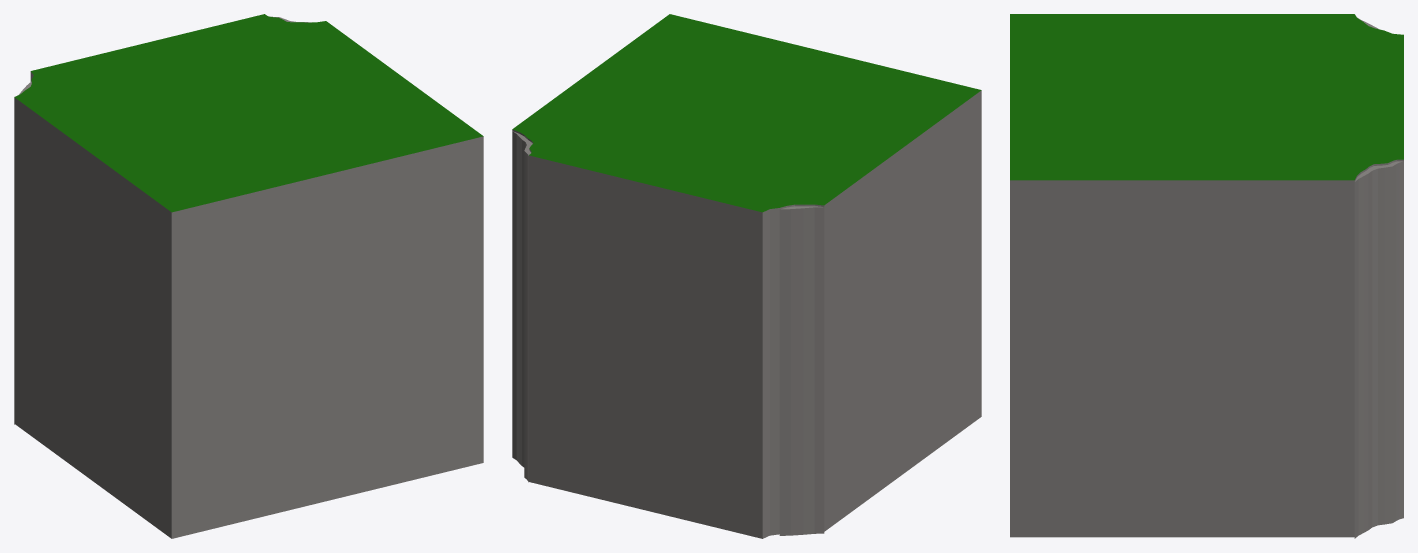
File: DoubleWedge.fbx
3 renders of one model, left to right at view 1: azimuth 30°, elevation 25°; view 2: azimuth 150°, elevation 25°; view 3: azimuth 270°, elevation 25°, orthographic. The views are drawn at different scales.
Visible parts, largest first — view 1: Plane.010; view 2: Plane.010; view 3: Plane.010.
Part boxes in pixels (x1,y1,x2,y2): Plane.010: [14, 14, 483, 538]; Plane.010: [512, 14, 981, 538]; Plane.010: [1010, 14, 1403, 538].
Size of the model in its own units: 100 by 101 by 100.
